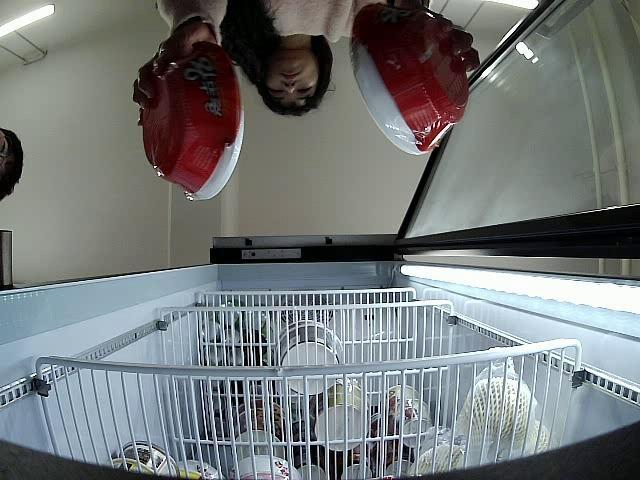10_wangTtukkeong: (350, 6, 468, 156), (144, 42, 245, 202)
